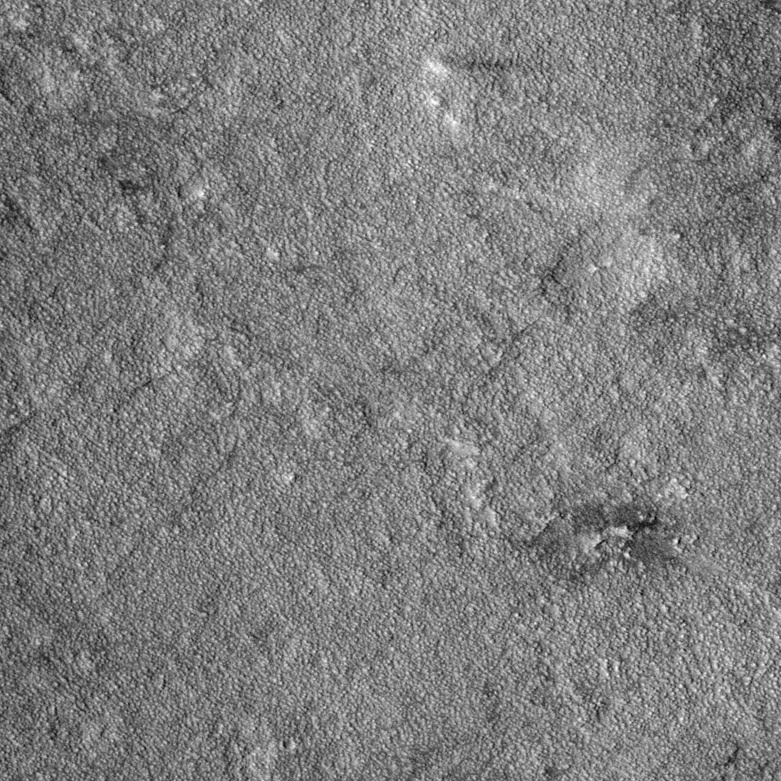dust_devil: (424, 54, 508, 79)
